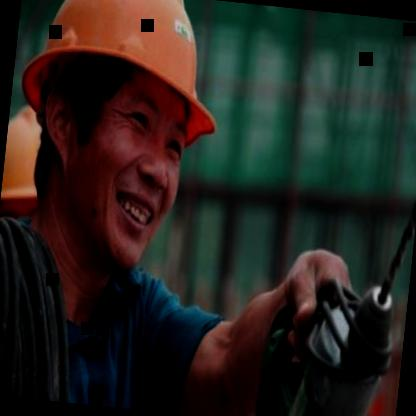helmet: (0, 0, 244, 313)
